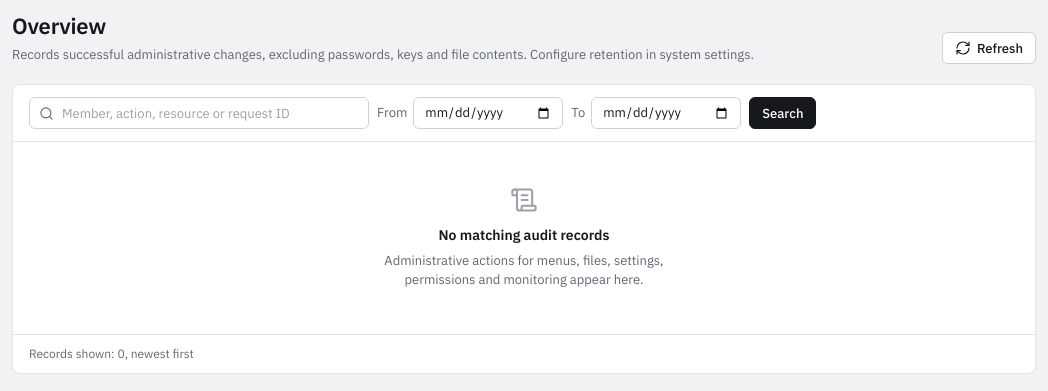
it: clears all audit filters and reloads the unfiltered results
This screenshot has width=1048, height=391.
Type "role" into the field at {"x": 199, "y": 113}, box 29,97 -> 369,129
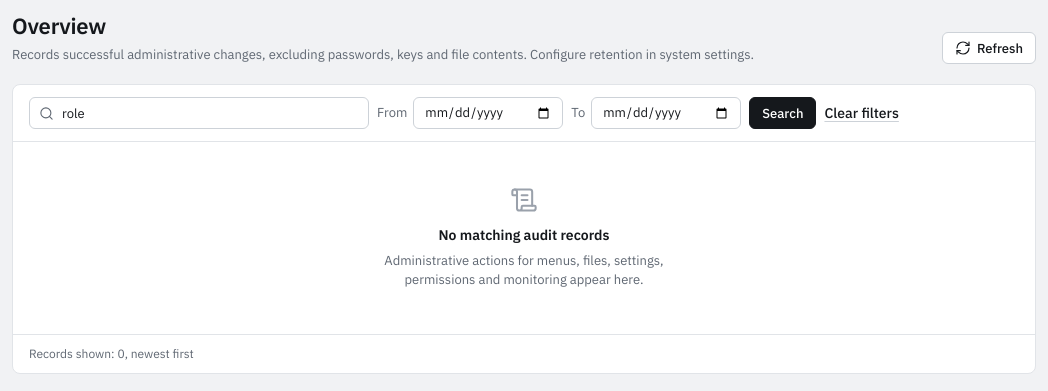
Click the button "Clear filters" at {"x": 862, "y": 113}, box 824,103 -> 899,124
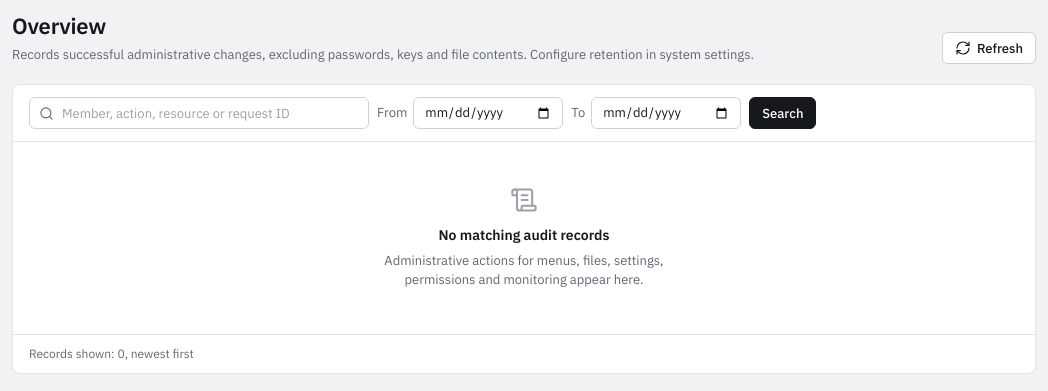
Expected: the field is empty, 29,97 -> 369,129
